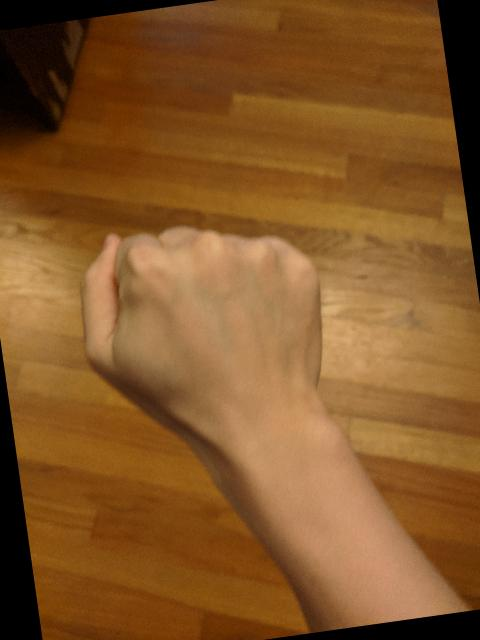A: (62, 199, 346, 469)
